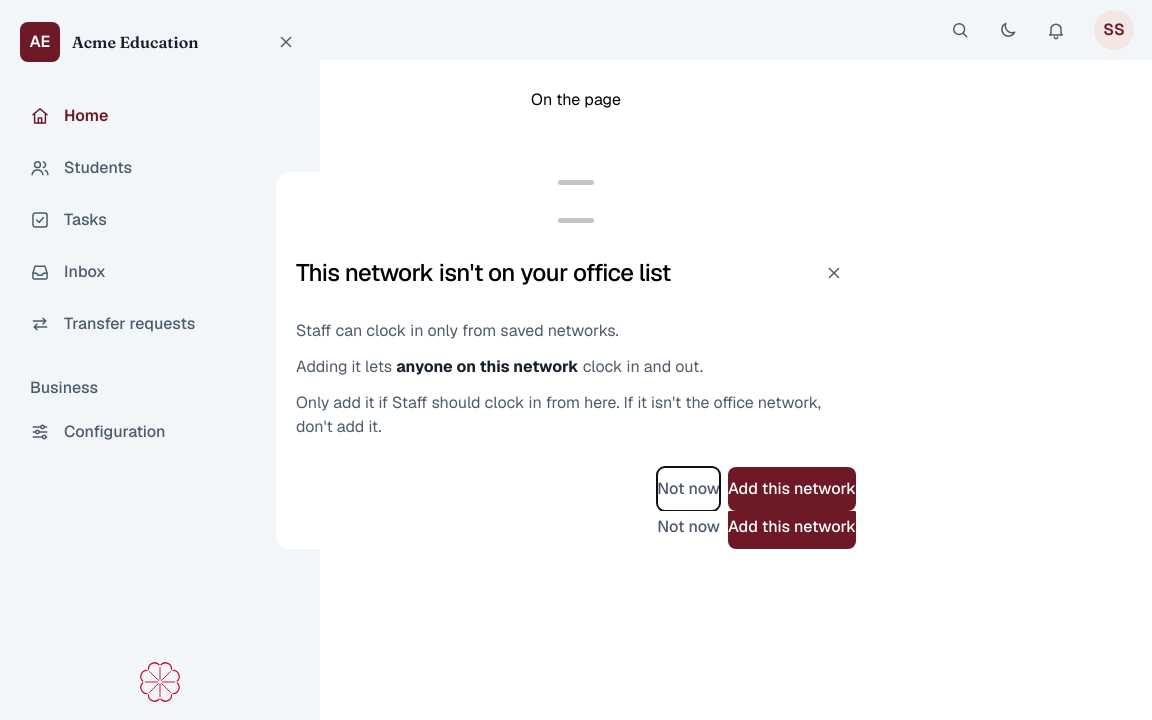
Test: the Admin's office-network dialog (first live fixes, ticket 03) › Add this network › shows a refusal in the dialog and changes nothing: {"network":["That network is already on the list."]}
Expected: the element showing "On the page © 2026 Rudraksha Labs. All rights reserved." is shown, [0,60,1151,232]
Click the button "Add this network".
click(792, 488)  # box [728,466,856,510]
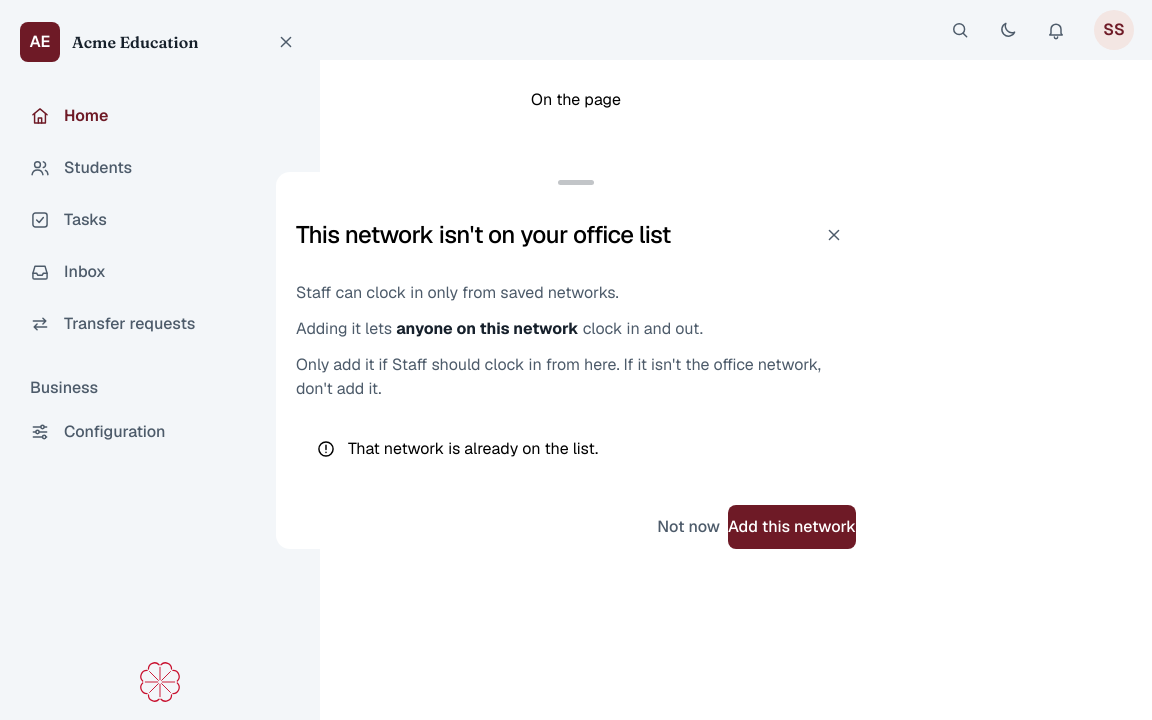
Expected: the dialog "This network isn't on your office list" is shown, [276,172,876,548]
Expected: the text "That network is already on the list." is shown, [348,436,598,460]
